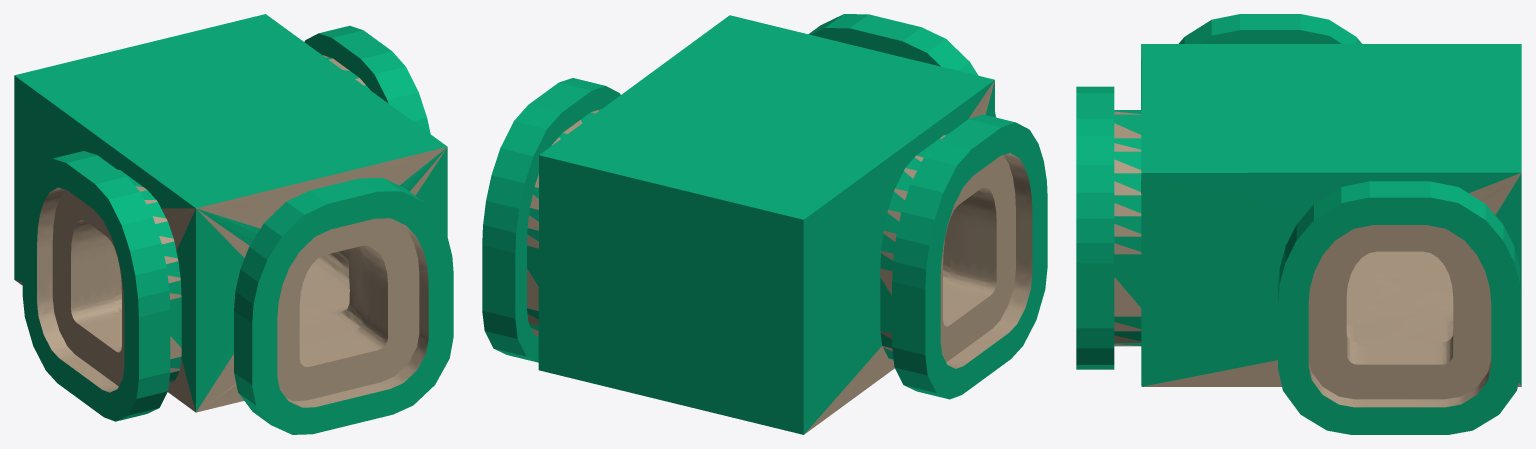
Rendered from TT_C_Junction.fbx.
3 renders of one model, left to right at view 1: azimuth 30°, elevation 25°; view 2: azimuth 150°, elevation 25°; view 3: azimuth 270°, elevation 25°, orthographic. The views are drawn at different scales.
Parts seen in each view (by area): view 1: TT_C_Junction_LOD0; view 2: TT_C_Junction_LOD0; view 3: TT_C_Junction_LOD0.
Boxes of the visible parts, x1,y1,x2,y2 form: TT_C_Junction_LOD0: (14, 14, 453, 434); TT_C_Junction_LOD0: (482, 14, 1047, 434); TT_C_Junction_LOD0: (1076, 14, 1521, 434).
Bounding box in the file's own units: 570 × 344 × 585.
